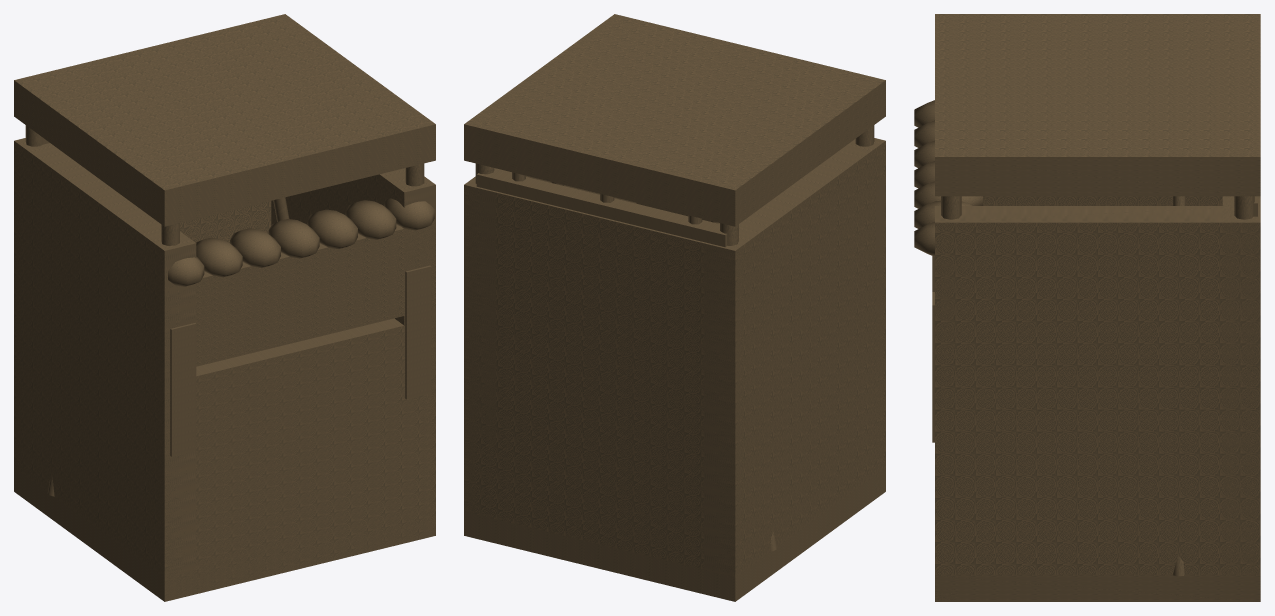
The model's file is observation-post.glb.
3 renders of one model, left to right at view 1: azimuth 30°, elevation 25°; view 2: azimuth 150°, elevation 25°; view 3: azimuth 270°, elevation 25°, orthographic. The views are drawn at different scales.
Parts seen in each view (by area): view 1: LOD0; view 2: LOD0; view 3: LOD0.
Boxes of the visible parts, x1,y1,x2,y2 form: LOD0: (14, 14, 435, 601); LOD0: (464, 14, 885, 601); LOD0: (914, 14, 1260, 601).
Bounding box in the file's own units: 2.4 × 3.4 × 2.4.
1 material, 1 textured.
